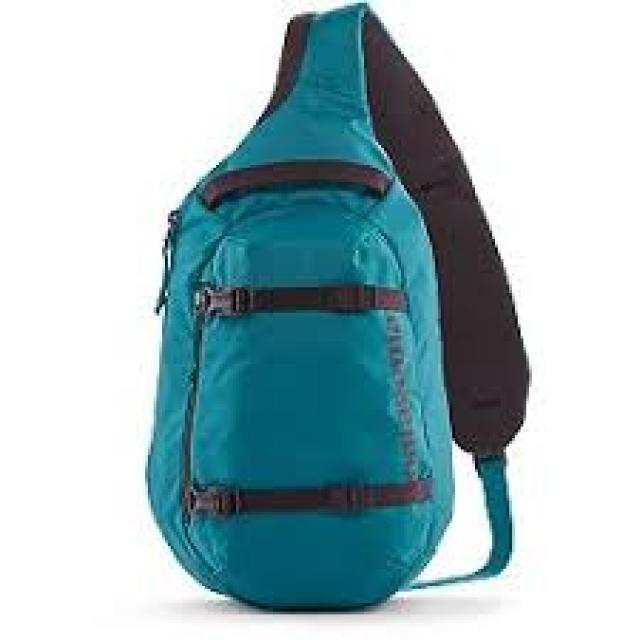backpack: (143, 1, 530, 613)
